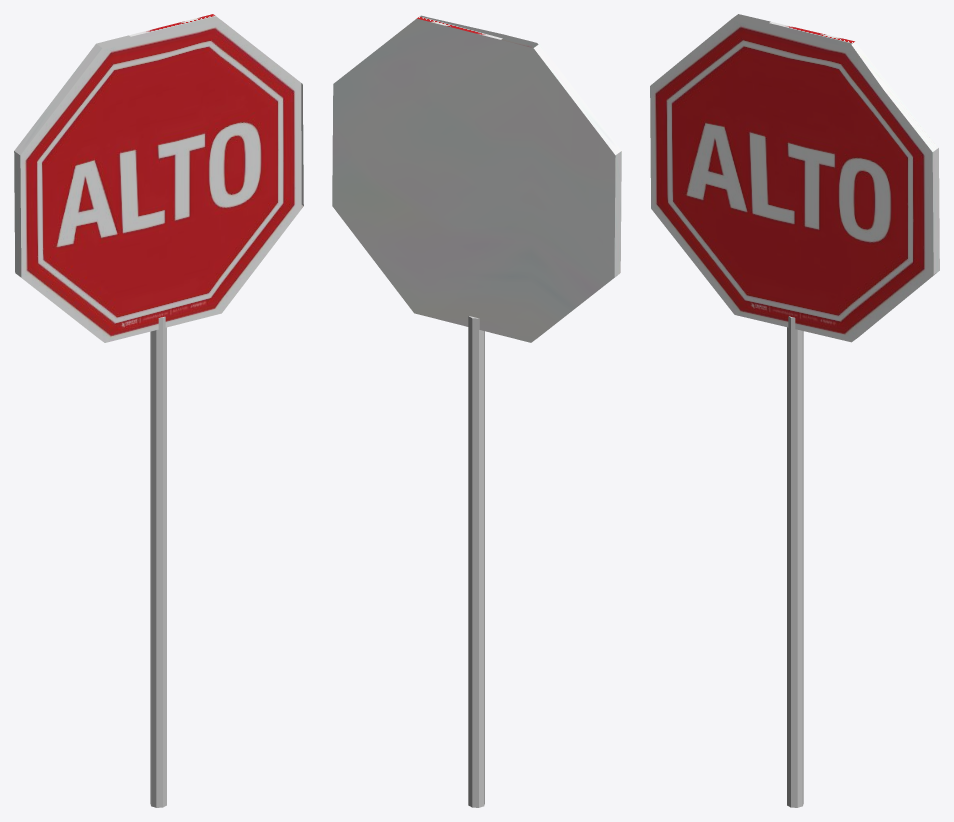
Rendered from letrero de alto.fbx.
3 views of the same model, side by side, from view 1: azimuth 30°, elevation 25°; view 2: azimuth 150°, elevation 25°; view 3: azimuth 330°, elevation 25° (orthographic).
Parts seen in each view (by area): view 1: Cilindro, Cilindro.001; view 2: Cilindro, Cilindro.001; view 3: Cilindro, Cilindro.001.
Boxes of the visible parts, box(x1,y1,x2,y2) form: Cilindro: box(14, 14, 303, 342); Cilindro.001: box(150, 316, 166, 807); Cilindro: box(332, 15, 621, 342); Cilindro.001: box(468, 316, 484, 807); Cilindro: box(650, 14, 939, 342); Cilindro.001: box(787, 316, 803, 807).
Bounding box in the file's own units: 185 × 484 × 9.79.
1 material, 1 textured.
